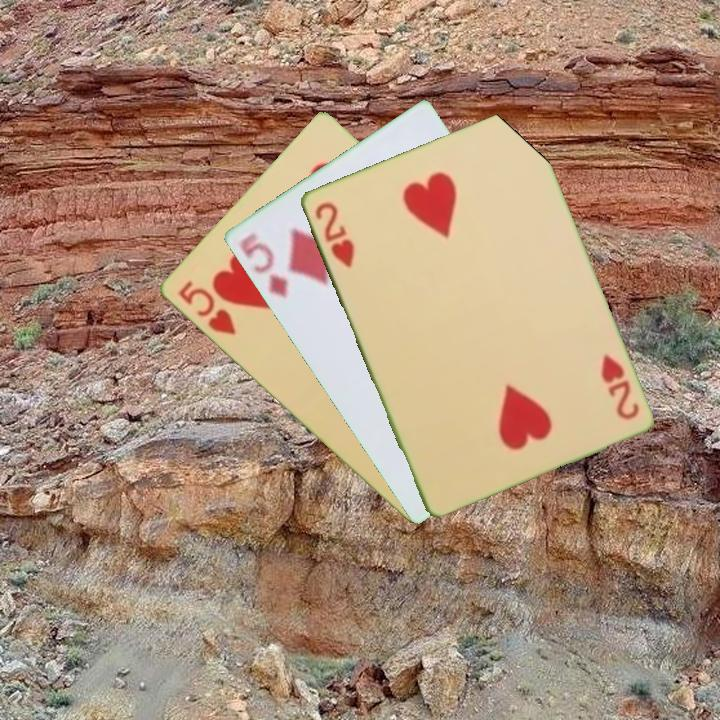2h: (311, 198, 357, 271), (596, 351, 642, 423)
5d: (235, 229, 290, 302)
5h: (174, 277, 238, 338)
